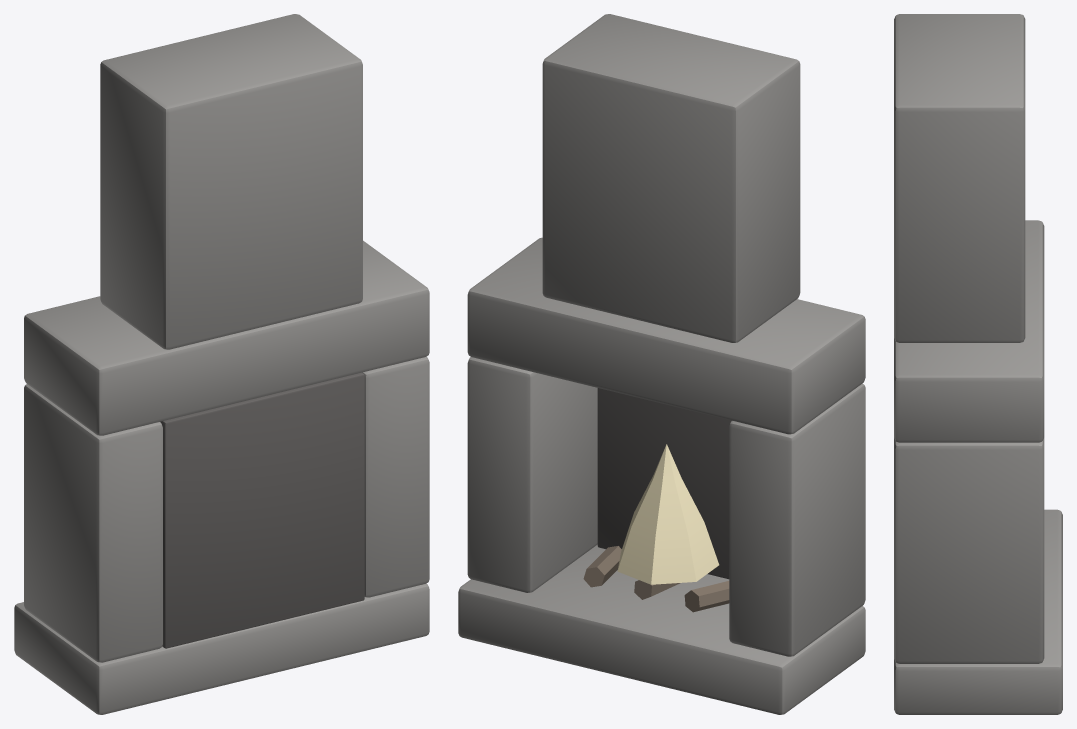
File: hearth.gltf
The picture shows the model from 3 angles, left to right: view 1: azimuth 30°, elevation 25°; view 2: azimuth 150°, elevation 25°; view 3: azimuth 270°, elevation 25°; orthographic projection. The views are drawn at different scales.
Parts seen in each view (by area): view 1: Body; view 2: Body, Pulse; view 3: Body.
Part boxes in pixels (x1=…): Body: x1=14, y1=14, x2=429, y2=714; Body: x1=458, y1=14, x2=865, y2=714; Pulse: x1=617, y1=444, x2=719, y2=584; Body: x1=894, y1=14, x2=1062, y2=714.
Bounding box in the file's own units: 2 × 3.4 × 0.9.
